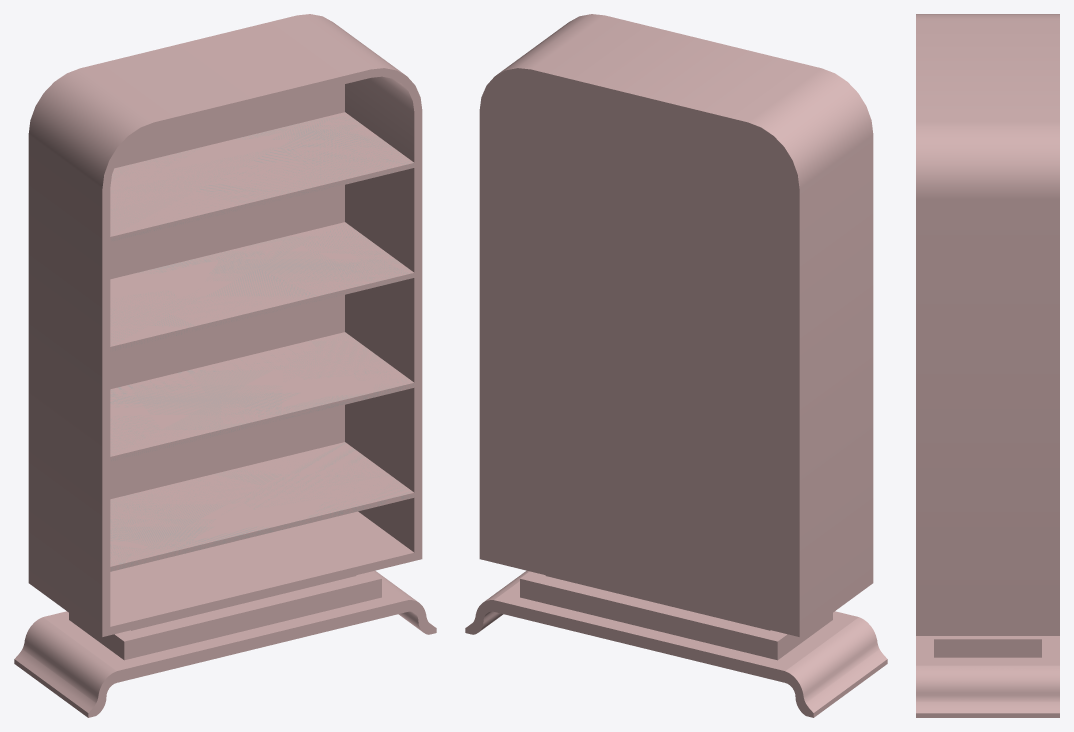
File: closet.fbx
3 renders of one model, left to right at view 1: azimuth 30°, elevation 25°; view 2: azimuth 150°, elevation 25°; view 3: azimuth 270°, elevation 25°, orthographic. The views are drawn at different scales.
Parts seen in each view (by area): view 1: Material2, Material3; view 2: Material2; view 3: Material2.
Boxes of the visible parts, x1,y1,x2,y2 form: Material2: (14, 14, 436, 717); Material3: (110, 112, 414, 571); Material2: (465, 14, 887, 717); Material2: (916, 14, 1059, 717).
Size of the model in its own units: 4286 by 6815 by 1575.
